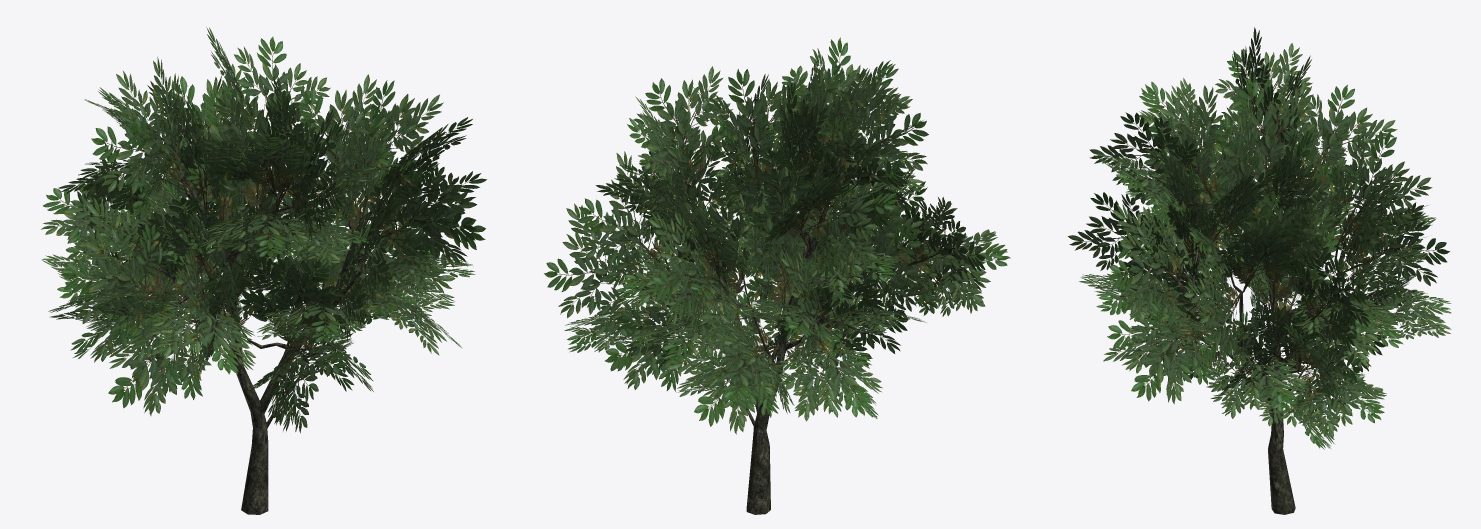
File: MK4_DisopyrosChloroxylon2.DAE
3 views of the same model, side by side, from view 1: azimuth 30°, elevation 25°; view 2: azimuth 150°, elevation 25°; view 3: azimuth 270°, elevation 25° (orthographic). The views are drawn at different scales.
Visible parts, largest first — view 1: MK4_DisopyrosChloroxylon150, MK4_DisopyrosChloroxylon50; view 2: MK4_DisopyrosChloroxylon150, MK4_DisopyrosChloroxylon50; view 3: MK4_DisopyrosChloroxylon150, MK4_DisopyrosChloroxylon50.
Part boxes in pixels (box(x1,y1,x2,y2)): MK4_DisopyrosChloroxylon150: box(41, 27, 486, 514); MK4_DisopyrosChloroxylon50: box(42, 79, 476, 433); MK4_DisopyrosChloroxylon150: box(544, 37, 1007, 514); MK4_DisopyrosChloroxylon50: box(564, 64, 1010, 503); MK4_DisopyrosChloroxylon150: box(1068, 27, 1451, 514); MK4_DisopyrosChloroxylon50: box(1079, 58, 1451, 503).
Size of what is drawn, in the model's own units: 39.86 by 35.78 by 43.15.
